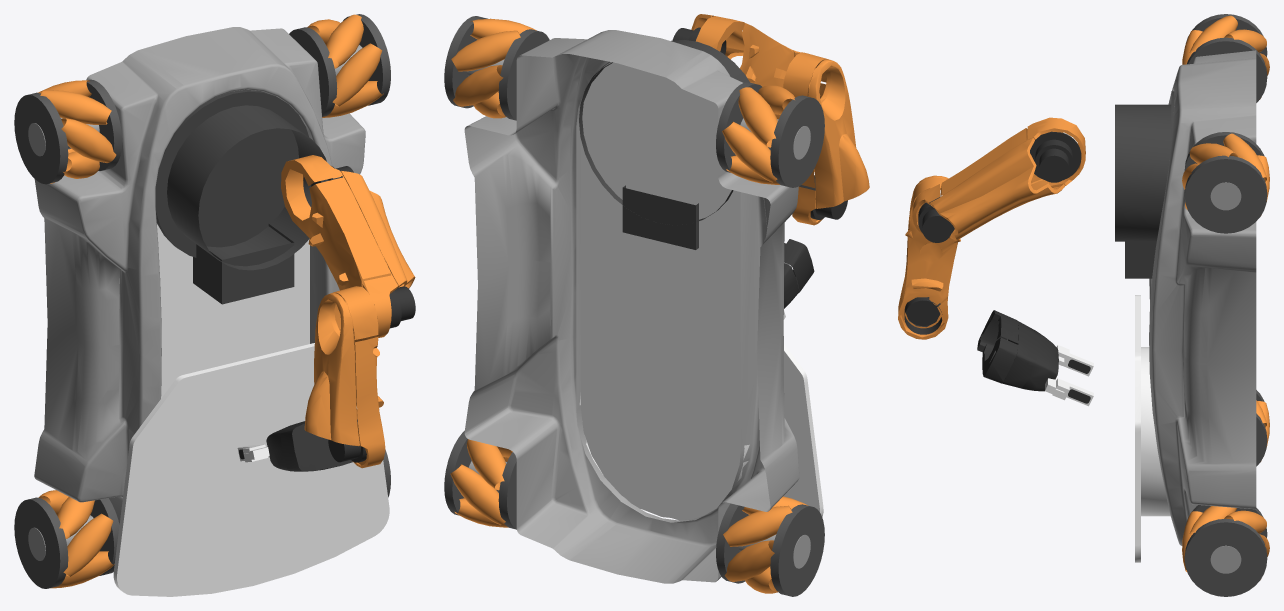
The model's file is youBotShape.dae.
3 renders of one model, left to right at view 1: azimuth 30°, elevation 25°; view 2: azimuth 150°, elevation 25°; view 3: azimuth 270°, elevation 25°, orthographic. The views are drawn at different scales.
Visible parts, largest first — view 1: vehicleControl, ME_Arm2_13_sub0, ME_Arm3_01_sub1_sub0_sub0, swedishWheel_fl, swedishWheel_rl, swedishWheel_fr, ME_Arm5_me_sub1; view 2: vehicleControl, swedishWheel_fl, swedishWheel_rl, ME_Arm3_01_sub1_sub0_sub0, swedishWheel_fr, swedishWheel_rr, ME_Arm2_13_sub0, ME_Arm5_me_sub1; view 3: vehicleControl, ME_Arm2_13_sub0, swedishWheel_fr, swedishWheel_rr, ME_Arm3_01_sub1_sub0_sub0, ME_Arm5_me_sub1, swedishWheel_fl, swedishWheel_rl, Rectangle2, Rectangle3.
Part boxes in pixels (left/top/right/bottom): vehicleControl: left=34, top=27, right=389, bottom=596; ME_Arm2_13_sub0: left=281, top=155, right=415, bottom=337; ME_Arm3_01_sub1_sub0_sub0: left=304, top=286, right=385, bottom=468; swedishWheel_fl: left=14, top=79, right=122, bottom=184; swedishWheel_rl: left=14, top=490, right=119, bottom=588; swedishWheel_fr: left=289, top=14, right=390, bottom=117; ME_Arm5_me_sub1: left=266, top=421, right=352, bottom=471; vehicleControl: left=464, top=30, right=823, bottom=583; swedishWheel_fl: left=716, top=82, right=824, bottom=187; swedishWheel_rl: left=716, top=496, right=824, bottom=596; ME_Arm3_01_sub1_sub0_sub0: left=783, top=52, right=869, bottom=225; swedishWheel_fr: left=444, top=16, right=549, bottom=120; swedishWheel_rr: left=444, top=431, right=516, bottom=529; ME_Arm2_13_sub0: left=672, top=14, right=800, bottom=87; ME_Arm5_me_sub1: left=784, top=239, right=814, bottom=308; vehicleControl: left=1115, top=50, right=1256, bottom=562; ME_Arm2_13_sub0: left=912, top=117, right=1085, bottom=242; swedishWheel_fr: left=1182, top=132, right=1269, bottom=233; swedishWheel_rr: left=1182, top=505, right=1269, bottom=596; ME_Arm3_01_sub1_sub0_sub0: left=898, top=175, right=960, bottom=339; ME_Arm5_me_sub1: left=977, top=310, right=1058, bottom=391; swedishWheel_fl: left=1182, top=14, right=1269, bottom=102; swedishWheel_rl: left=1256, top=390, right=1269, bottom=466; Rectangle2: left=1045, top=378, right=1093, bottom=406; Rectangle3: left=1054, top=345, right=1093, bottom=376.
Size of the model in its own units: 0.3913 by 0.5701 by 0.4229.
